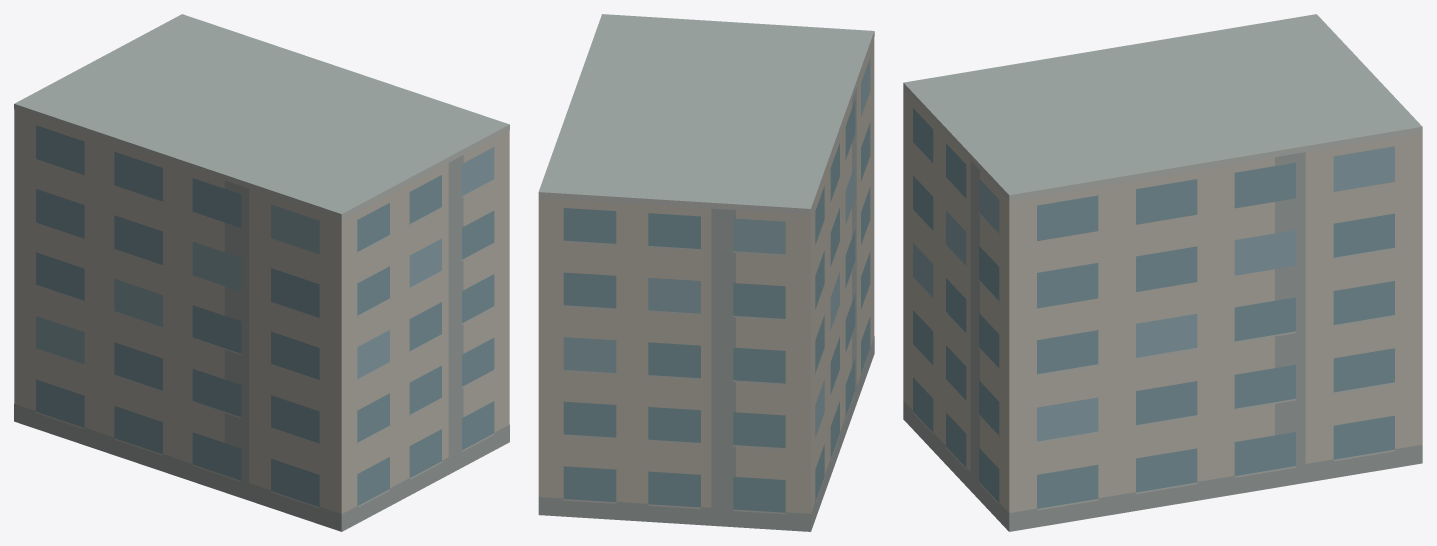
Rendered from survey-upis-32867610.glb.
The picture shows the model from 3 angles, left to right: view 1: azimuth 30°, elevation 25°; view 2: azimuth 150°, elevation 25°; view 3: azimuth 270°, elevation 25°; orthographic projection. The views are drawn at different scales.
Visible parts, largest first — view 1: survey-upis-32867610.tmp; view 2: survey-upis-32867610.tmp; view 3: survey-upis-32867610.tmp.
Boxes of the visible parts, x1=… form: survey-upis-32867610.tmp: x1=14, y1=14, x2=509, y2=531; survey-upis-32867610.tmp: x1=538, y1=14, x2=874, y2=531; survey-upis-32867610.tmp: x1=903, y1=14, x2=1422, y2=531.
Size of the model in its own units: 15.71 by 13.6 by 19.02.
